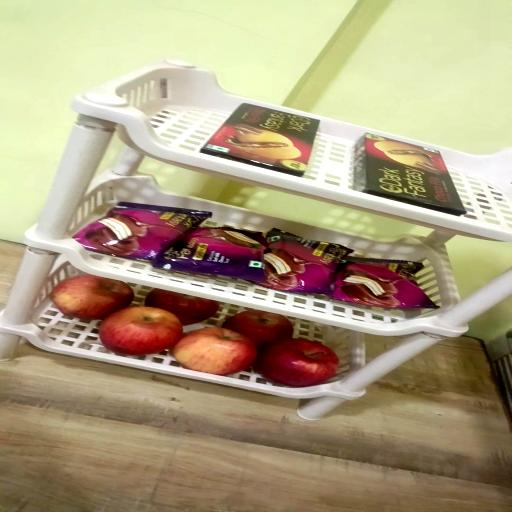Apple: (98, 306, 182, 356), (257, 338, 340, 387), (175, 328, 261, 375), (52, 276, 134, 321), (145, 289, 219, 326), (221, 310, 293, 345)
Choco Fills: (355, 135, 466, 218), (202, 102, 320, 175)
Choco Pie: (71, 204, 211, 262), (154, 226, 266, 281), (263, 230, 355, 296), (330, 260, 438, 309)
